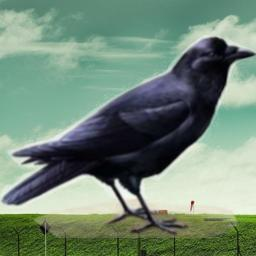Crow: (0, 35, 256, 238)
